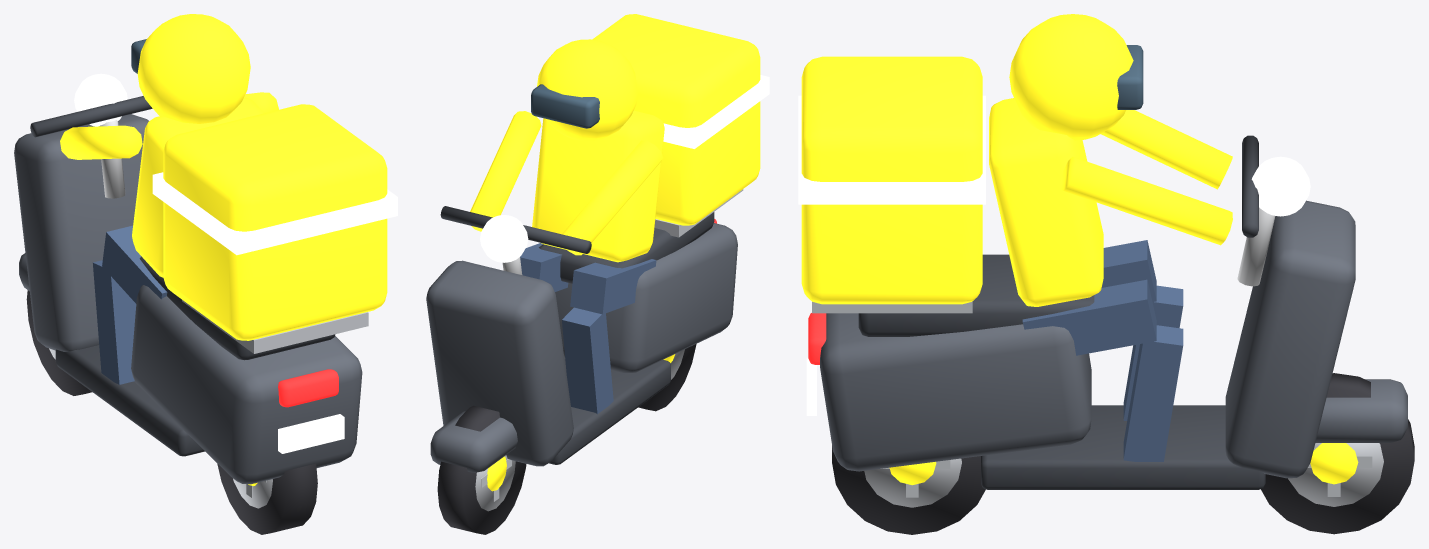
The model's file is delivery_blinkit.glb.
3 renders of one model, left to right at view 1: azimuth 30°, elevation 25°; view 2: azimuth 150°, elevation 25°; view 3: azimuth 270°, elevation 25°, orthographic. The views are drawn at different scales.
Visible parts, largest first — view 1: Scooter_Body.002, Wheel_Rear.002, Wheel_Front.003; view 2: Scooter_Body.002, Wheel_Front.003, Wheel_Rear.002; view 3: Scooter_Body.002, Wheel_Front.003, Wheel_Rear.002.
Part boxes in pixels (<box>): Scooter_Body.002: <box>14,14,397,484</box>; Wheel_Rear.002: <box>217,463,317,534</box>; Wheel_Front.003: <box>26,290,92,395</box>; Scooter_Body.002: <box>426,14,769,472</box>; Wheel_Front.003: <box>437,405,526,534</box>; Wheel_Rear.002: <box>638,344,696,411</box>; Scooter_Body.002: <box>798,14,1407,489</box>; Wheel_Front.003: <box>1261,373,1414,534</box>; Wheel_Rear.002: <box>832,446,985,534</box>.
Size of the model in its own units: 0.6364 by 1.67 by 1.84.
